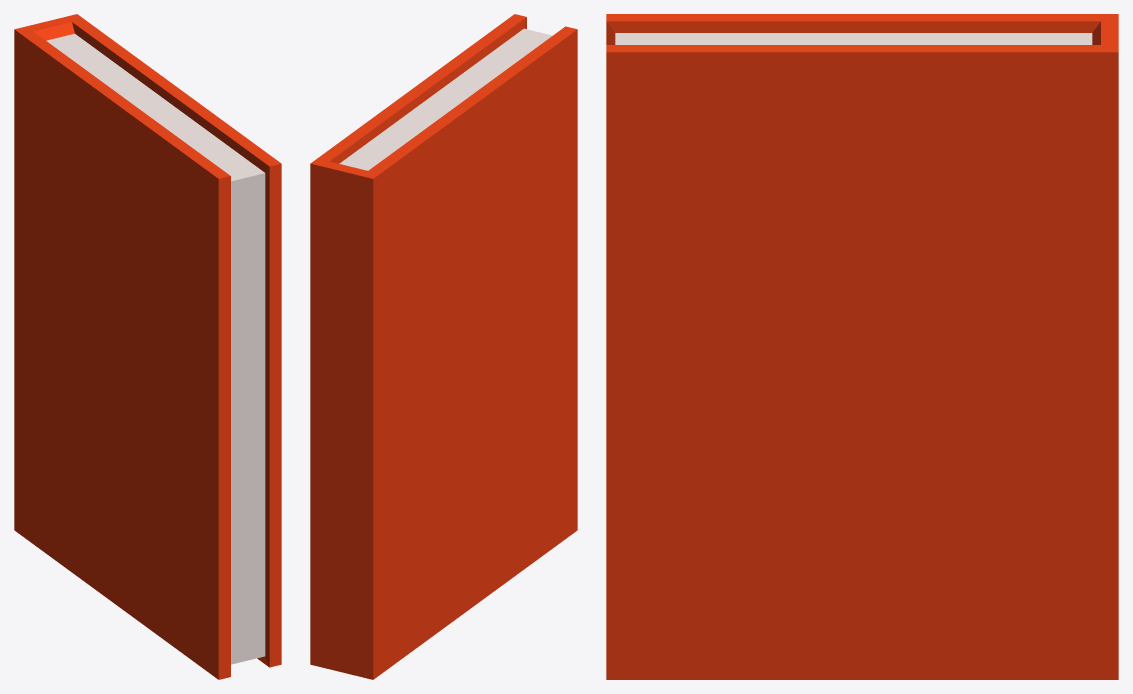
Rendered from Book_Red.fbx.
3 views of the same model, side by side, from view 1: azimuth 30°, elevation 25°; view 2: azimuth 150°, elevation 25°; view 3: azimuth 270°, elevation 25° (orthographic). The views are drawn at different scales.
Parts seen in each view (by area): view 1: Book_Red; view 2: Book_Red; view 3: Book_Red.
Boxes of the visible parts, x1=… form: Book_Red: x1=14, y1=14, x2=281, y2=679; Book_Red: x1=310, y1=14, x2=577, y2=679; Book_Red: x1=606, y1=14, x2=1118, y2=679.
Size of the model in its own units: 6.08 by 46.32 by 34.25.
